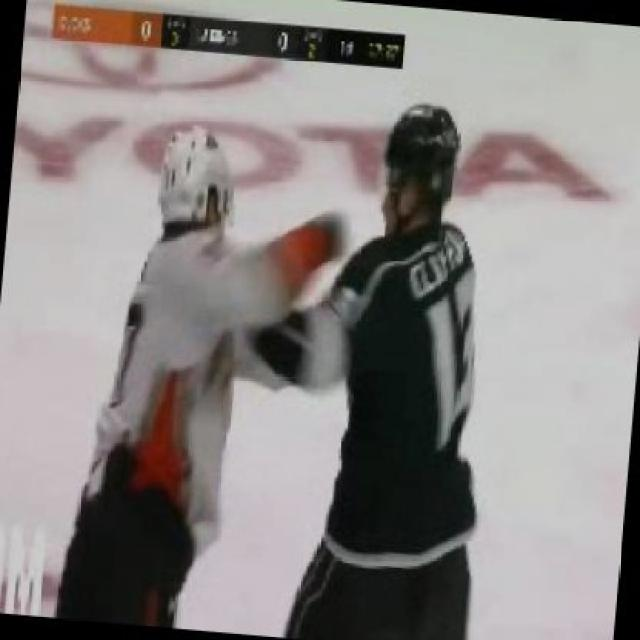fight: (48, 104, 484, 638)
